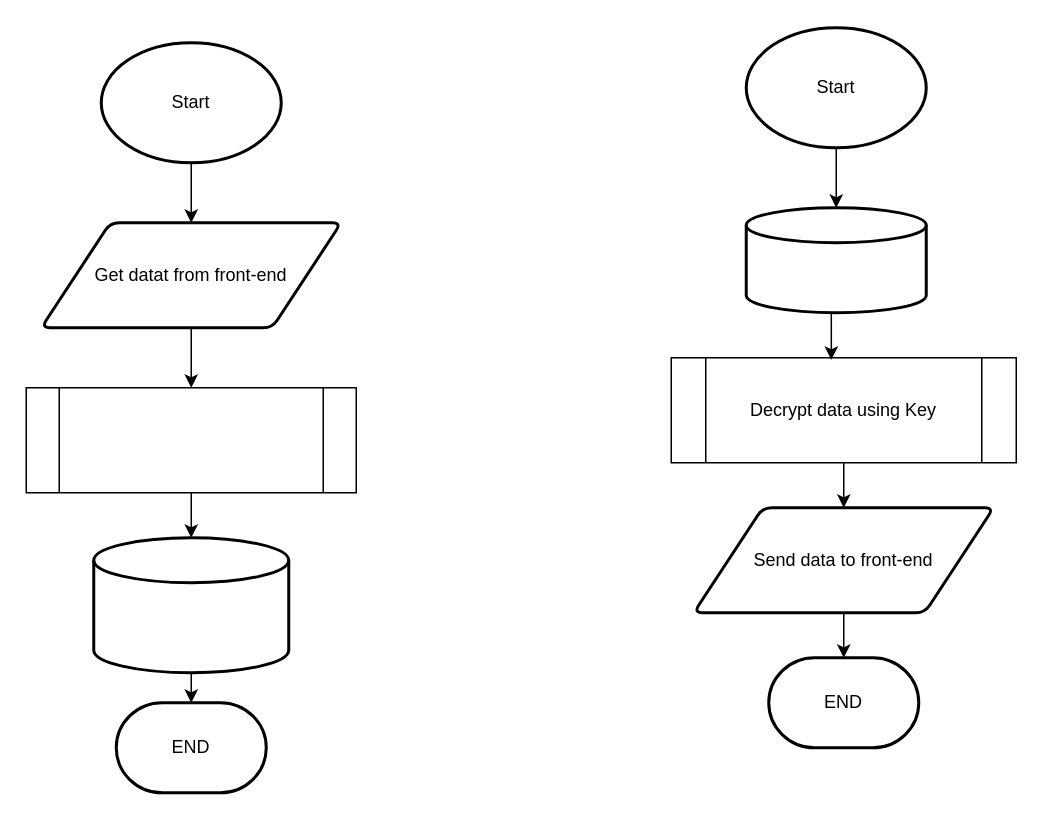
Image size: 1043x819. Some labels were removed from this diagram. The shapes that lost their labels are listed below. From the top down, each one's box as (x1, y1, x2, y2) in pixels, then its label:
(744, 206, 927, 314): Fetch username, password & key
(25, 386, 356, 493): Generate Key & Encrypt Data with it
(92, 536, 290, 674): Store Key & encrypted data in database
